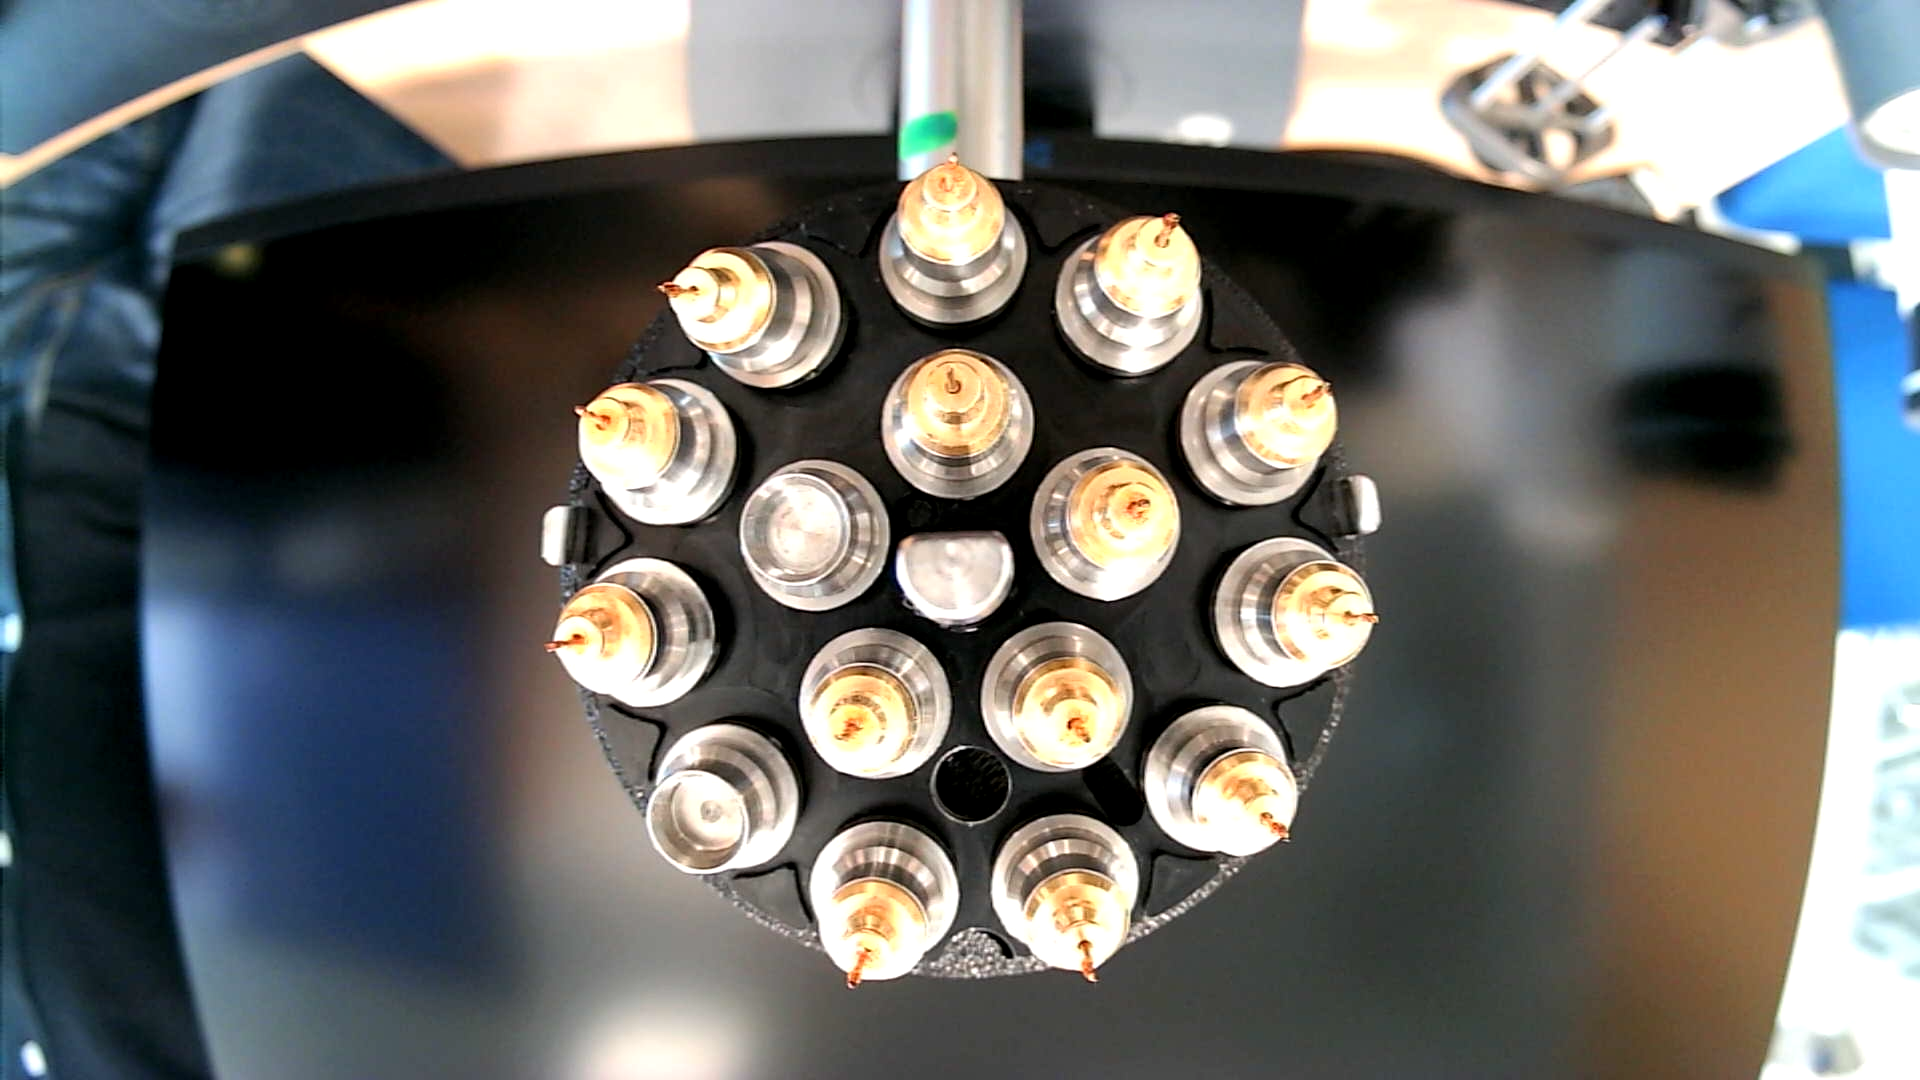adapter: (638, 716, 796, 876), (740, 455, 894, 613)
hole: (928, 742, 1015, 829)
misplaced: (662, 236, 852, 388)
pin: (541, 553, 725, 709), (804, 812, 961, 992), (986, 807, 1139, 988), (1207, 531, 1378, 688), (874, 152, 1027, 327), (571, 372, 740, 530), (1052, 208, 1203, 381), (1139, 704, 1300, 862), (884, 345, 1044, 502), (796, 624, 955, 781), (978, 618, 1135, 775), (1174, 356, 1333, 510), (1030, 448, 1184, 607)
rod: (895, 527, 1018, 632)
